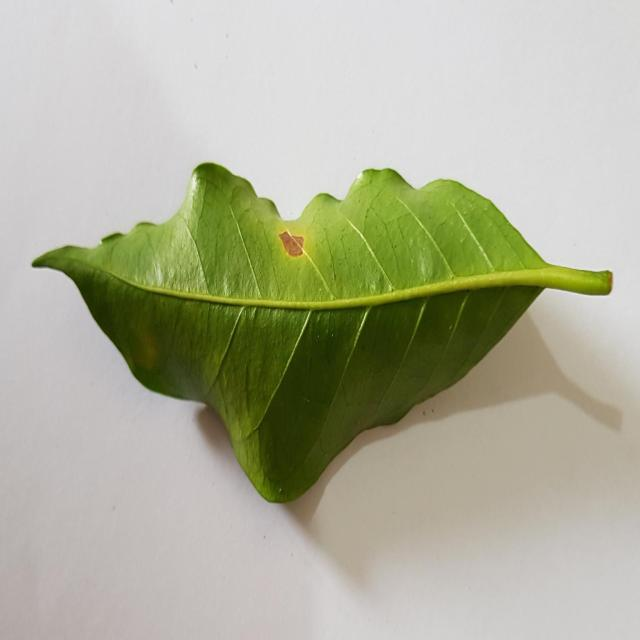Enfermedad-Mancha-de-hierro: (30, 162, 614, 508)
